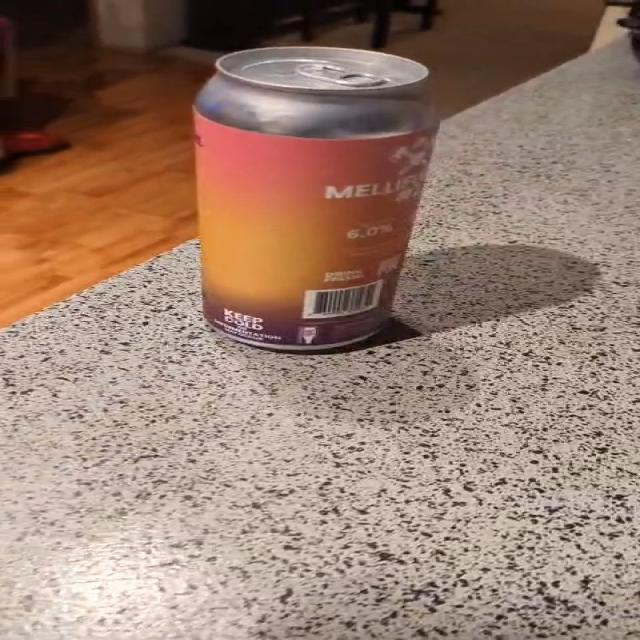metal: (196, 46, 438, 349)
